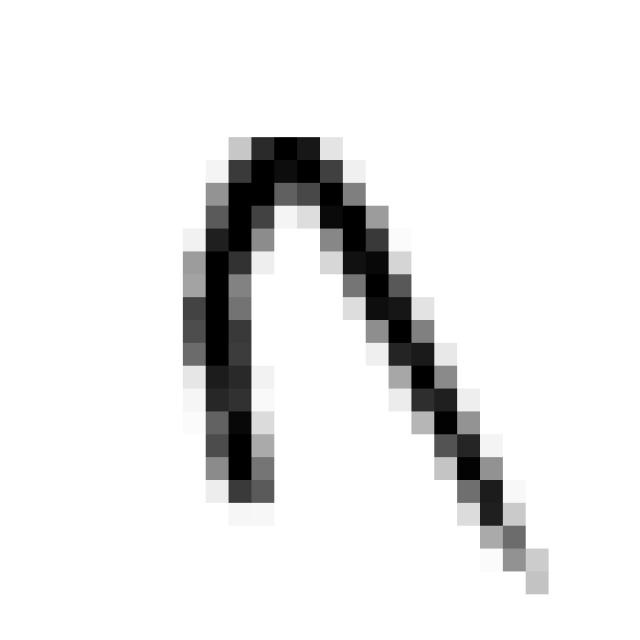8 -eight-: (156, 114, 564, 606)
